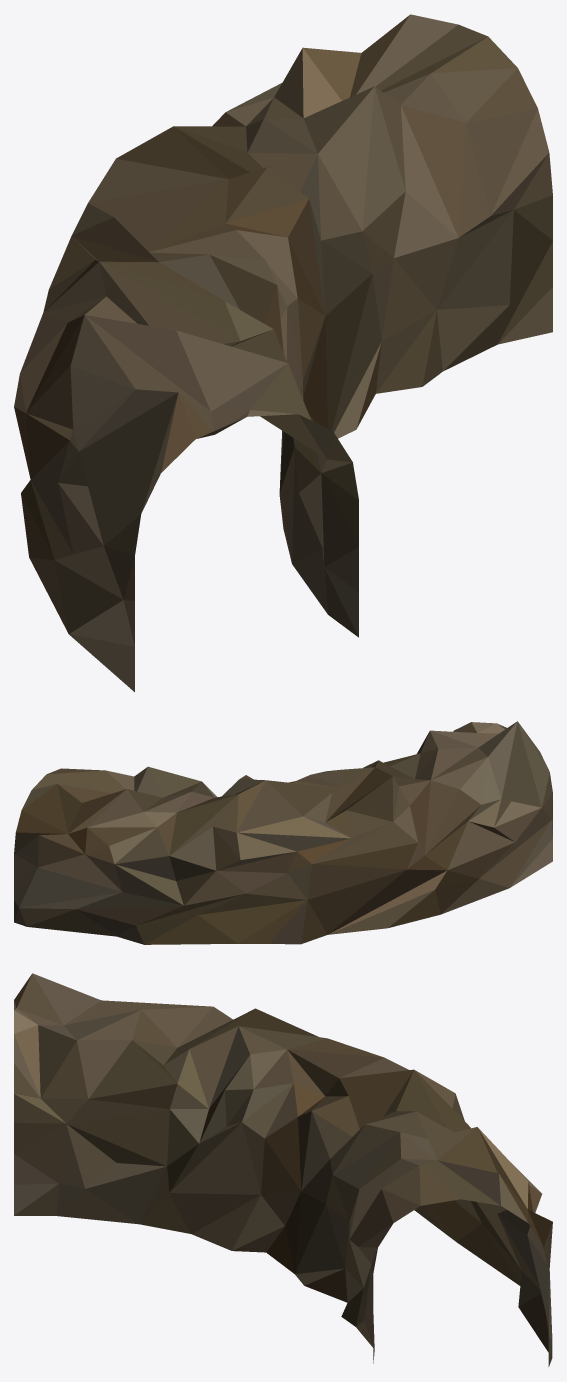
File: Cave-Turn20mB.fbx
The picture shows the model from 3 angles, top to bottom: view 1: azimuth 30°, elevation 25°; view 2: azimuth 150°, elevation 25°; view 3: azimuth 270°, elevation 25°; orthographic projection. The views are drawn at different scales.
Visible parts, largest first — view 1: Cave-Turn20mB; view 2: Cave-Turn20mB; view 3: Cave-Turn20mB.
Boxes of the visible parts, x1,y1,x2,y2 form: Cave-Turn20mB: [14, 14, 552, 691]; Cave-Turn20mB: [14, 721, 552, 944]; Cave-Turn20mB: [14, 973, 552, 1366].
Bounding box in the file's own units: 1534 × 589 × 1535.
